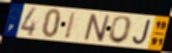0: (40, 8, 63, 40)
4: (19, 6, 38, 38)
I: (63, 10, 78, 40)
J: (132, 18, 153, 46)
N: (83, 12, 111, 44)
O: (107, 16, 134, 45)
